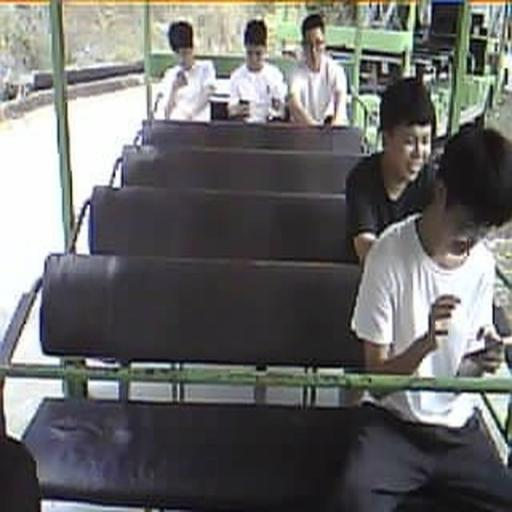persona: (341, 124, 511, 510), (344, 76, 438, 271), (288, 14, 350, 128), (152, 20, 218, 122), (227, 18, 289, 123)
